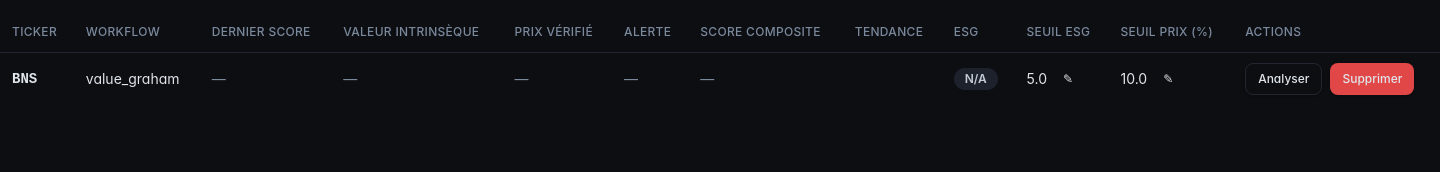
Test: WatchlistTable — seuil ESG édition inline › erreur API affiche un message d'erreur
This screenshot has width=1440, height=172.
Click the button with test id "esg-threshold-edit-btn": click(1068, 78) [1051,62,1085,94]
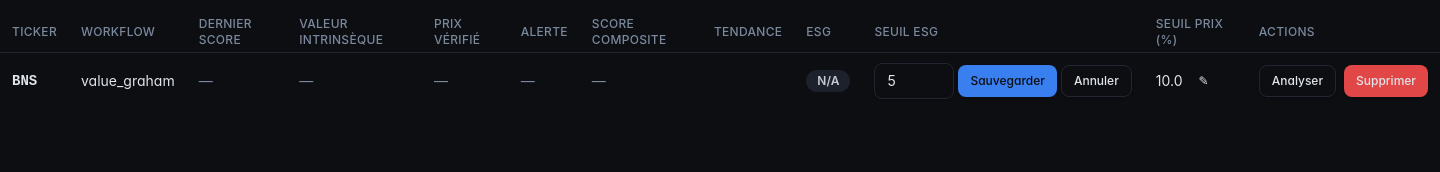
Click the button with test id "esg-threshold-save-btn": click(1008, 80) [958,64,1057,96]
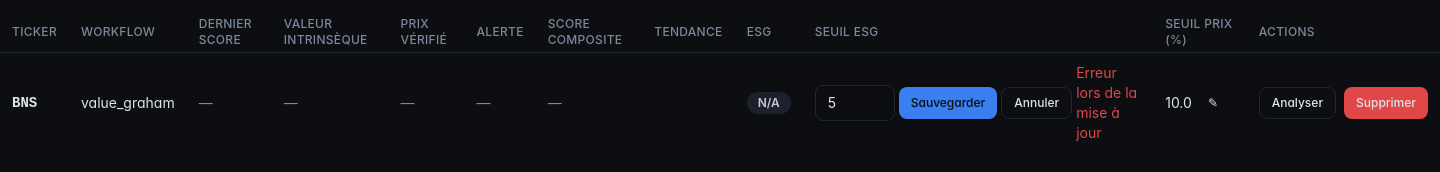
Check: the text "Erreur lors de la mise à jour" is shown, box [1076,62,1141,142]
Check: the text with test id "esg-threshold-error" reads "Erreur lors de la mise à jour", box [1076,64,1137,140]
